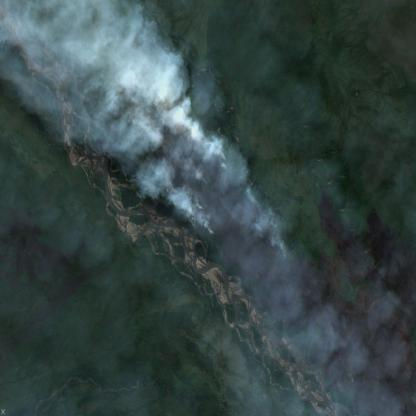fire: (144, 109, 233, 238)
